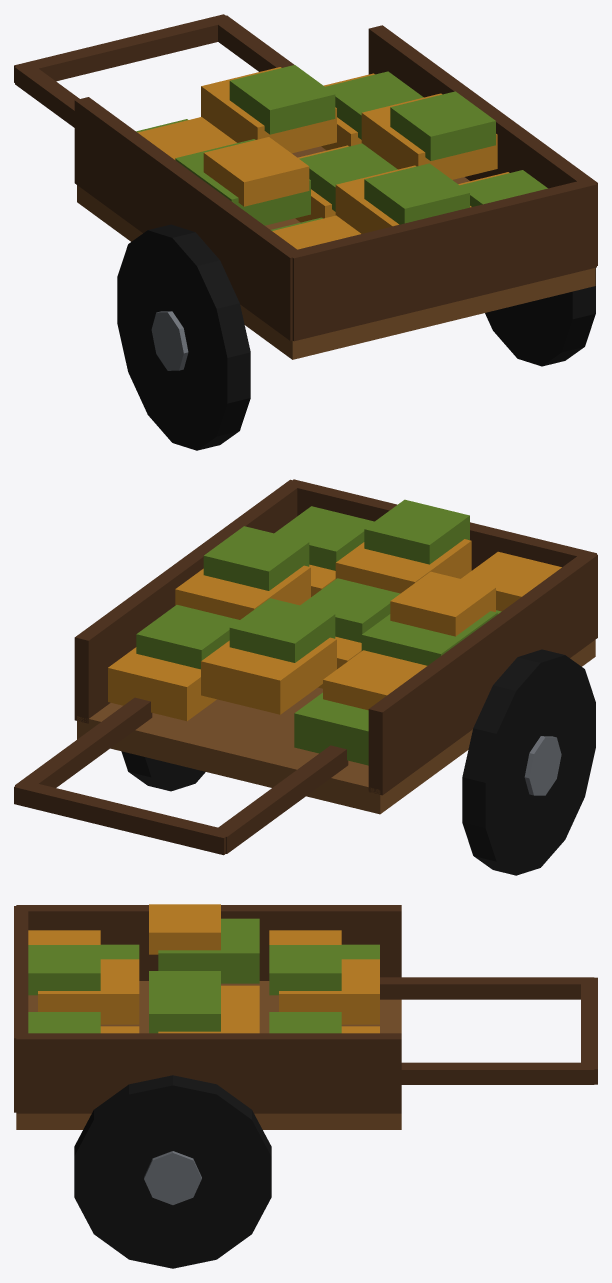
The model's file is cart.glb.
3 views of the same model, one above another, from view 1: azimuth 30°, elevation 25°; view 2: azimuth 150°, elevation 25°; view 3: azimuth 270°, elevation 25° (orthographic). The views are drawn at different scales.
Visible parts, largest first — view 1: cart; view 2: cart; view 3: cart.
Boxes of the visible parts, x1,y1,x2,y2 form: cart: (14,14,597,450); cart: (14,479,597,875); cart: (14,904,597,1268).
Bounding box in the file's own units: 1.62 × 1.05 × 2.43.
